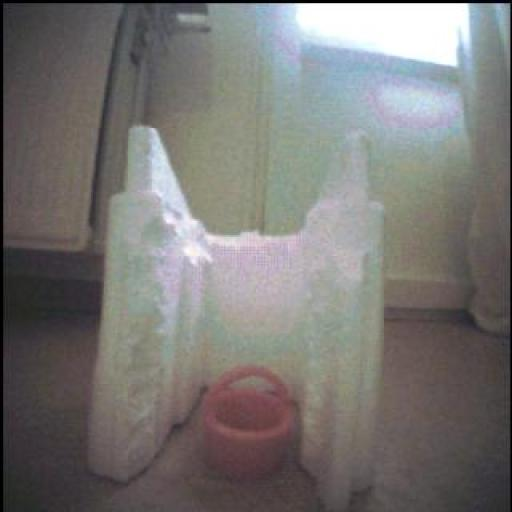Basket: (204, 366, 294, 479)
